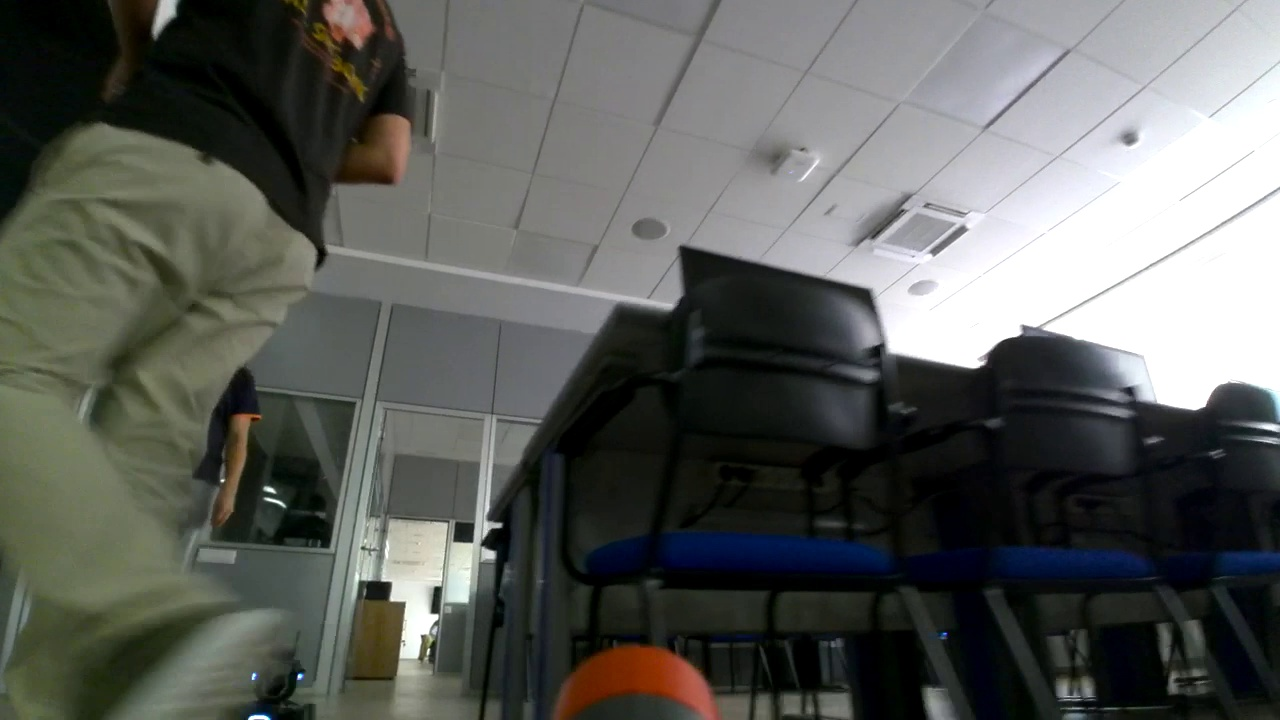robot: (221, 629, 316, 719)
